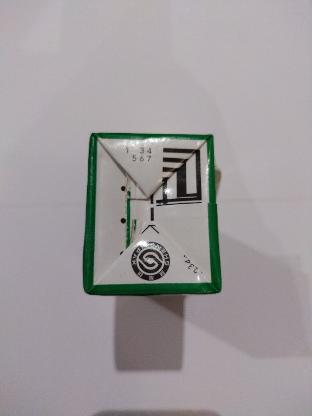Others: (80, 129, 224, 296)
